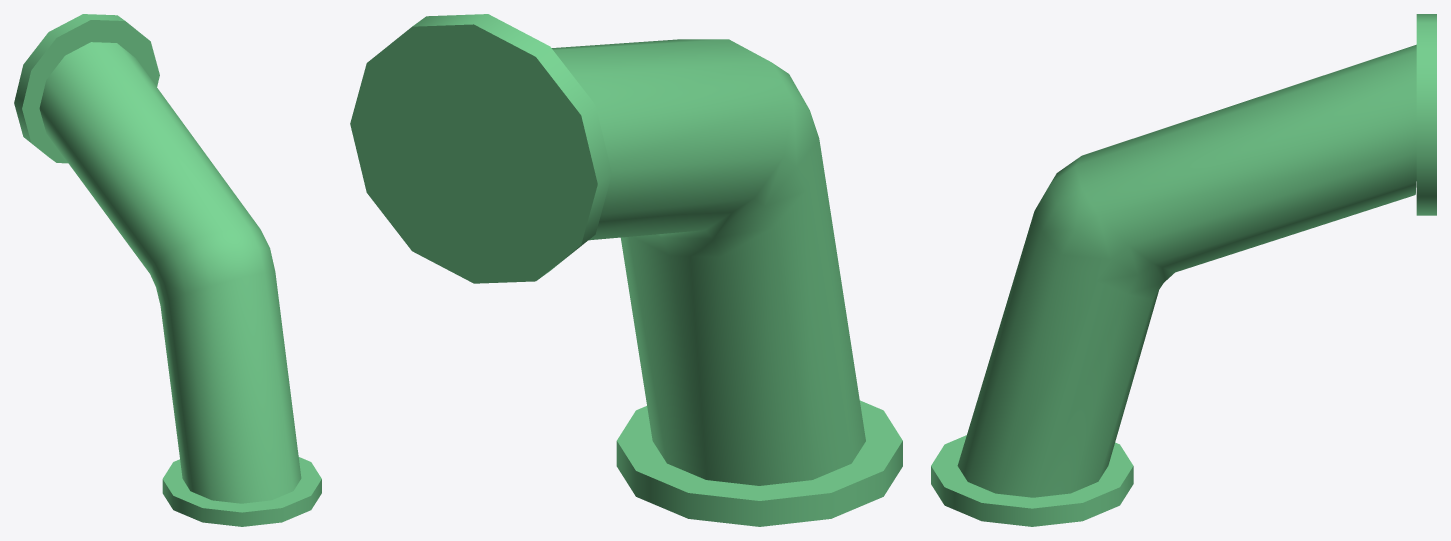
File: Pipe_Basic_Bend90_Wide.fbx
The picture shows the model from 3 angles, left to right: view 1: azimuth 30°, elevation 25°; view 2: azimuth 150°, elevation 25°; view 3: azimuth 270°, elevation 25°; orthographic projection. The views are drawn at different scales.
Visible parts, largest first — view 1: Pipe_Basic_Bend90_Wide; view 2: Pipe_Basic_Bend90_Wide; view 3: Pipe_Basic_Bend90_Wide.
Boxes of the visible parts, <box> form: Pipe_Basic_Bend90_Wide: <box>14,14,321,526</box>; Pipe_Basic_Bend90_Wide: <box>350,14,902,526</box>; Pipe_Basic_Bend90_Wide: <box>931,14,1436,526</box>.
Bounding box in the file's own units: 75 × 188 × 187.
